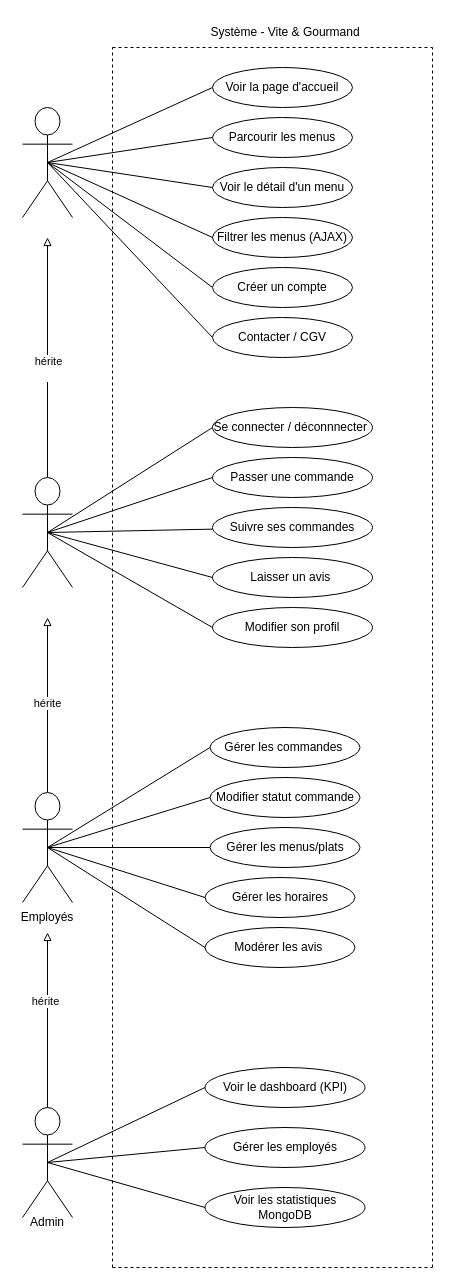
The diagram is 451 pixels wide and 1286 high, and some of its shapes have lost their labels. The shapes that lost their labels are listed below. From the top down, each one's centre as x and y in pixels, then its label:
point 47,162: Visiteur
point 47,532: Utilisateur
